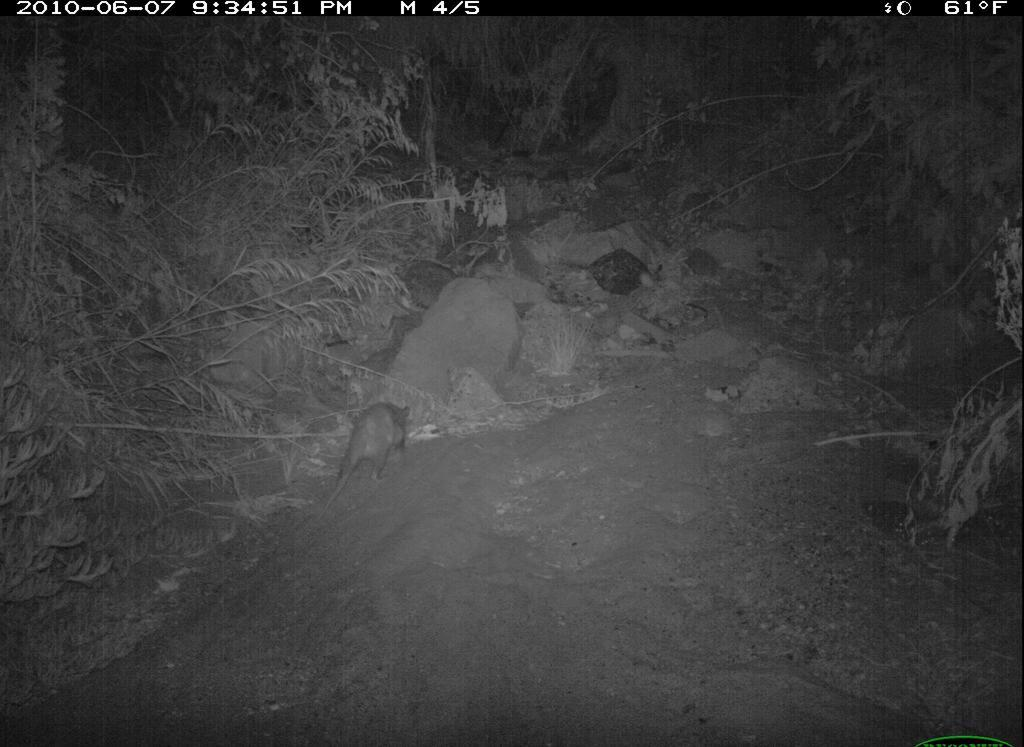opossum: (314, 397, 425, 518)
